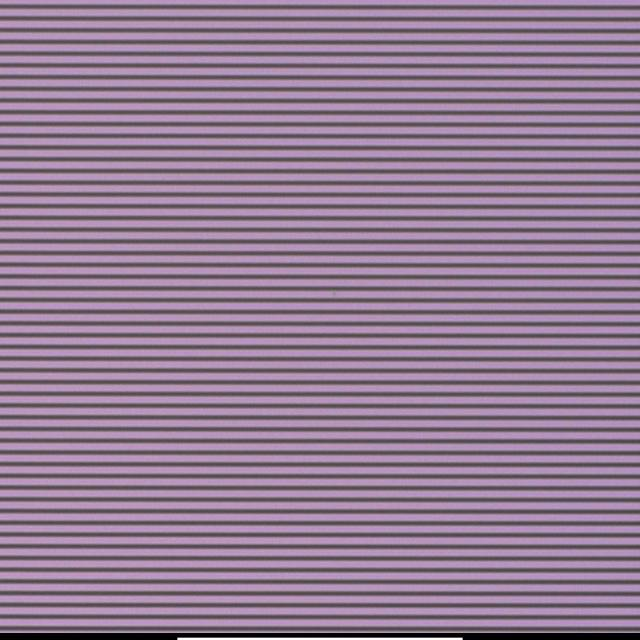nonvisual: (325, 282, 343, 302)
